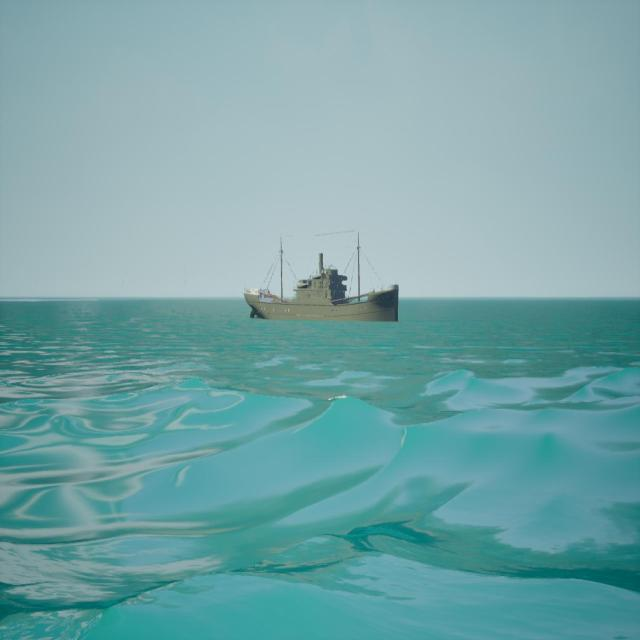fishing ship: (247, 232, 401, 324)
